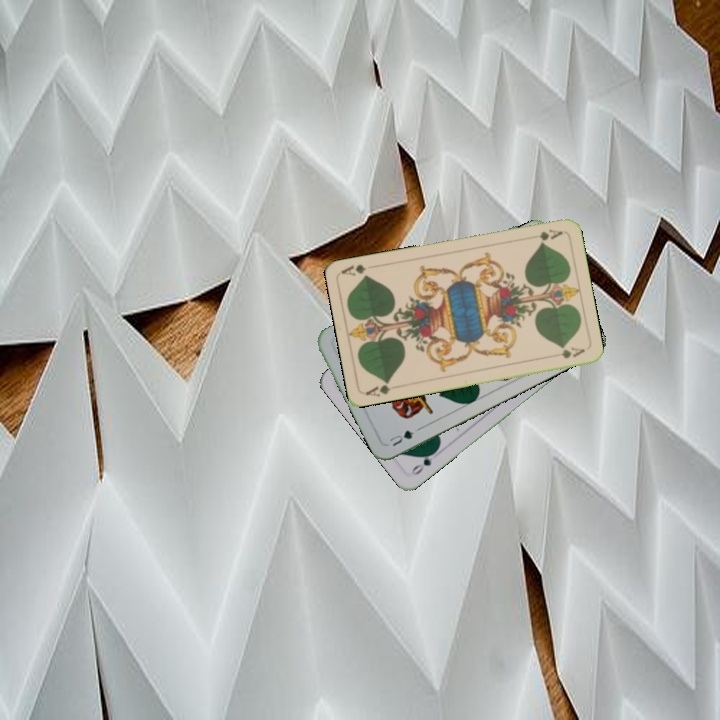GA: (362, 376, 402, 399), (535, 225, 565, 246)
GO: (407, 446, 440, 478)
GU: (385, 426, 417, 449)
